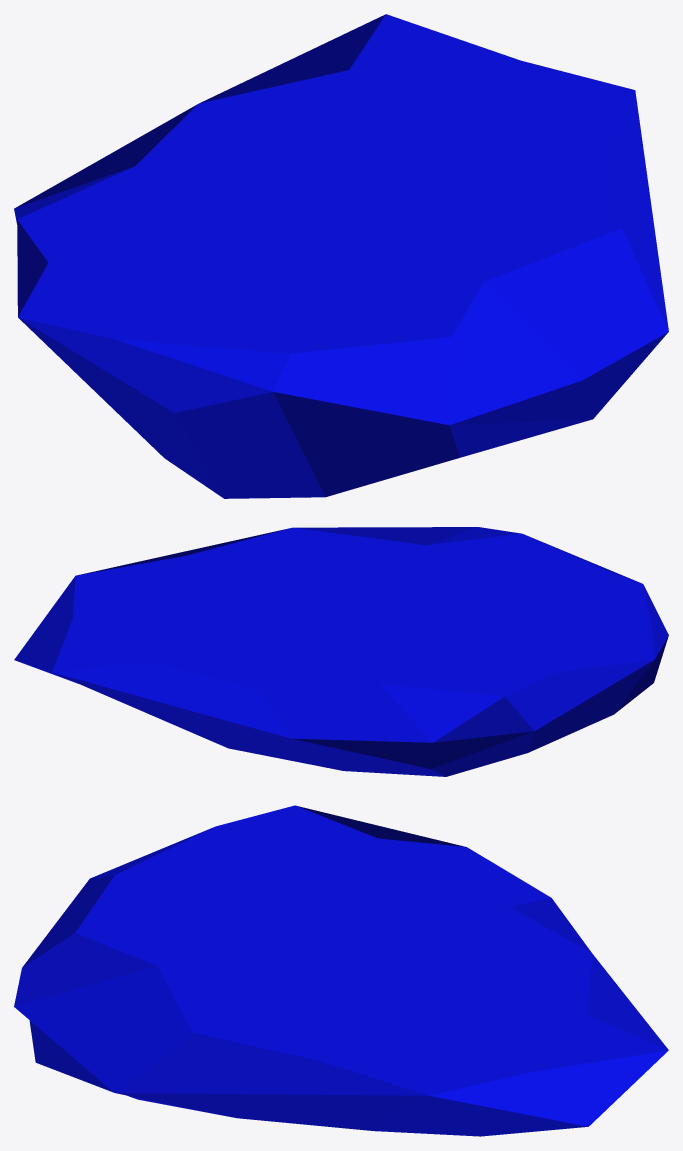
Rendered from SM_Big_FlatStone2.fbx.
3 views of the same model, one above another, from view 1: azimuth 30°, elevation 25°; view 2: azimuth 150°, elevation 25°; view 3: azimuth 270°, elevation 25° (orthographic). The views are drawn at different scales.
Parts seen in each view (by area): view 1: SM_Big_FlatStone2; view 2: SM_Big_FlatStone2; view 3: SM_Big_FlatStone2.
Boxes of the visible parts, <box> form: SM_Big_FlatStone2: <box>14,14,668,498</box>; SM_Big_FlatStone2: <box>14,527,668,776</box>; SM_Big_FlatStone2: <box>14,805,668,1136</box>.
Size of the model in its own units: 177 by 31.93 by 169.
